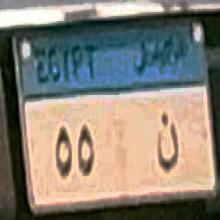5: (76, 122, 98, 180), (53, 124, 73, 183)
noon: (154, 105, 180, 176)
